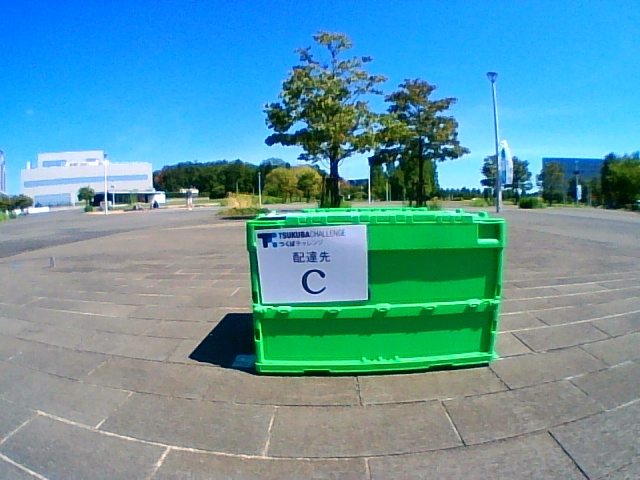green_box: (246, 207, 506, 375)
tag_c: (271, 230, 363, 301)
